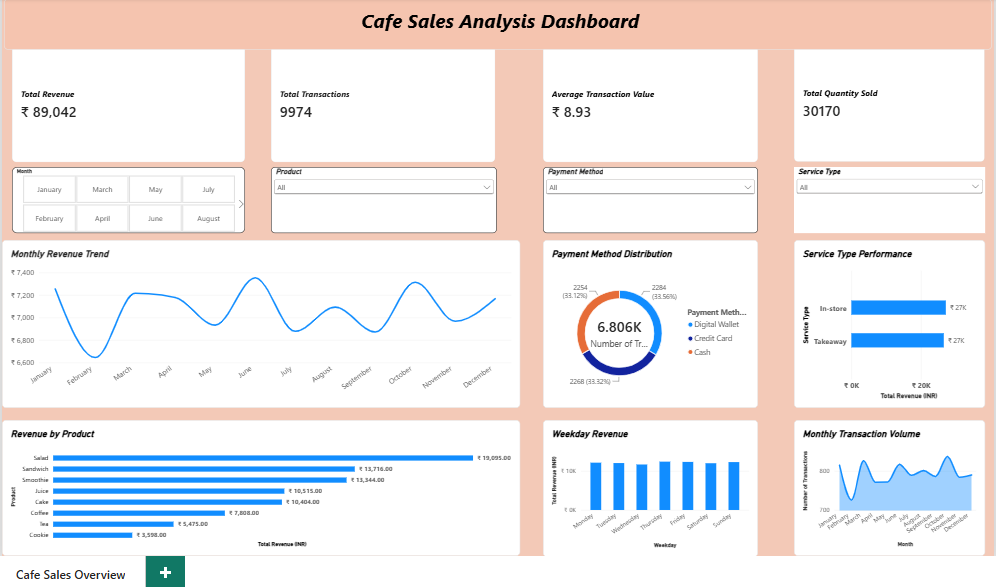

The page's visual inventory and layout, read from the dashboard file:
{"tool":"powerbi","page":{"name":"Cafe Sales Overview","canvas":[1920,1080],"ordinal":0},"visuals":[{"type":"cardVisual","title":"Total Revenue","fields":{"Data":["cafe_sales_cleaned.Total Revenue"]},"box":[18.6,93,451.2,225.6],"z":0},{"type":"cardVisual","title":"Total Transactions","fields":{"Data":["cafe_sales_cleaned.Total Transaction"]},"box":[520.9,93,434.9,225.6],"z":1000},{"type":"cardVisual","fields":{"Data":["cafe_sales_cleaned.Average Transaction Value"]},"box":[1046.5,93,416.3,225.6],"z":2000},{"type":"cardVisual","fields":{"Data":["cafe_sales_cleaned.Total Quantity Sold"]},"box":[1532.9,91,369.7,226.5],"z":3000},{"type":"textbox","box":[3,2,1912,98],"z":4000},{"type":"lineChart","title":"Monthly Revenue Trend","fields":{"Category":["cafe_sales_cleaned.Transaction Month"],"Y":["Sum(cafe_sales_cleaned.Total Spent)"]},"box":[0,468.4,1002.6,325.2],"z":5000},{"type":"clusteredBarChart","title":"Revenue by Product","fields":{"Category":["cafe_sales_cleaned.Item"],"Y":["Sum(cafe_sales_cleaned.Total Spent)"]},"box":[0,816.8,1002.6,263.2],"z":6000},{"type":"donutChart","title":"Payment Method Distribution","fields":{"Category":["cafe_sales_cleaned.Payment Method"],"Y":["Count(cafe_sales_cleaned.Transaction ID)"]},"box":[1047.1,468.4,416.1,325.2],"z":7000},{"type":"clusteredColumnChart","title":"Weekday Revenue","fields":{"Category":["cafe_sales_cleaned.Day of the Week"],"Y":["Sum(cafe_sales_cleaned.Total Spent)"]},"box":[1047.1,816.8,416.1,265.2],"z":8000},{"type":"clusteredBarChart","title":"Service Type Performance","fields":{"Category":["cafe_sales_cleaned.Location"],"Y":["Sum(cafe_sales_cleaned.Total Spent)"]},"box":[1532.9,468.4,369.7,325.2],"z":9000},{"type":"areaChart","title":"Monthly Transaction Volume","fields":{"Category":["cafe_sales_cleaned.Transaction Month"],"Y":["Count(cafe_sales_cleaned.Transaction ID)"]},"box":[1532.9,816.8,369.7,263.2],"z":10000},{"type":"slicer","fields":{"Values":["cafe_sales_cleaned.Transaction Month"]},"box":[19.4,327.1,451,127.7],"z":11000},{"type":"slicer","fields":{"Values":["cafe_sales_cleaned.Item"]},"box":[520.6,327.1,437.4,127.7],"z":12000},{"type":"slicer","fields":{"Values":["cafe_sales_cleaned.Payment Method"]},"box":[1047.1,327.1,416.1,127.7],"z":13000},{"type":"slicer","fields":{"Values":["cafe_sales_cleaned.Location"]},"box":[1532.9,327.1,369.7,127.7],"z":14000}]}

Visuals, with their boxes on the page's 1920x1080 design canvas (x1, y1, x2, y2). These are canvas units, not pixel positions in the 996x587 screenshot, which may show the page scaled, cropped or inside an application window:
"Total Revenue" cardVisual: 19,93,470,319
"Total Transactions" cardVisual: 521,93,956,319
cardVisual - cafe_sales_cleaned.Average Transaction Value: 1046,93,1463,319
cardVisual - cafe_sales_cleaned.Total Quantity Sold: 1533,91,1903,318
textbox: 3,2,1915,100
"Monthly Revenue Trend" lineChart: 0,468,1003,794
"Revenue by Product" clusteredBarChart: 0,817,1003,1080
"Payment Method Distribution" donutChart: 1047,468,1463,794
"Weekday Revenue" clusteredColumnChart: 1047,817,1463,1082
"Service Type Performance" clusteredBarChart: 1533,468,1903,794
"Monthly Transaction Volume" areaChart: 1533,817,1903,1080
slicer - cafe_sales_cleaned.Transaction Month: 19,327,470,455
slicer - cafe_sales_cleaned.Item: 521,327,958,455
slicer - cafe_sales_cleaned.Payment Method: 1047,327,1463,455
slicer - cafe_sales_cleaned.Location: 1533,327,1903,455
